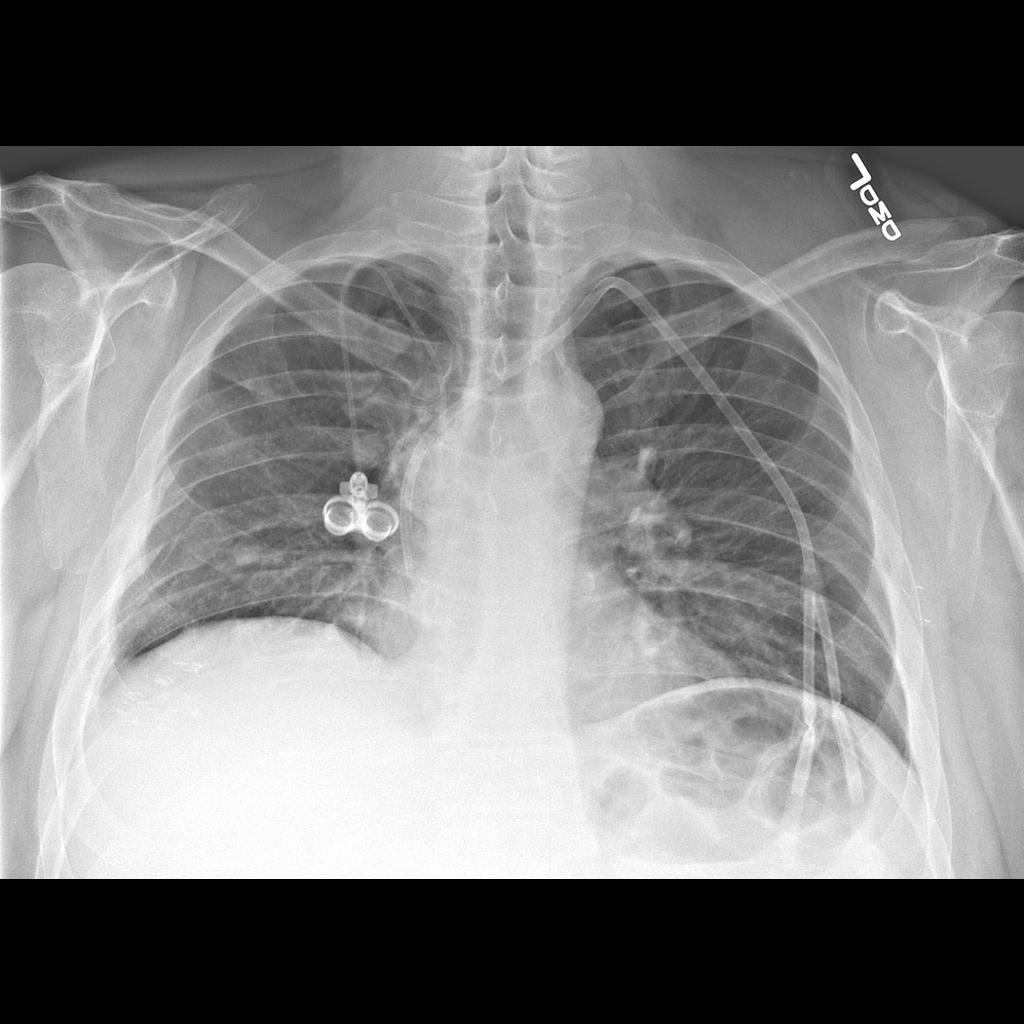Nodule: (224, 529, 272, 580)
